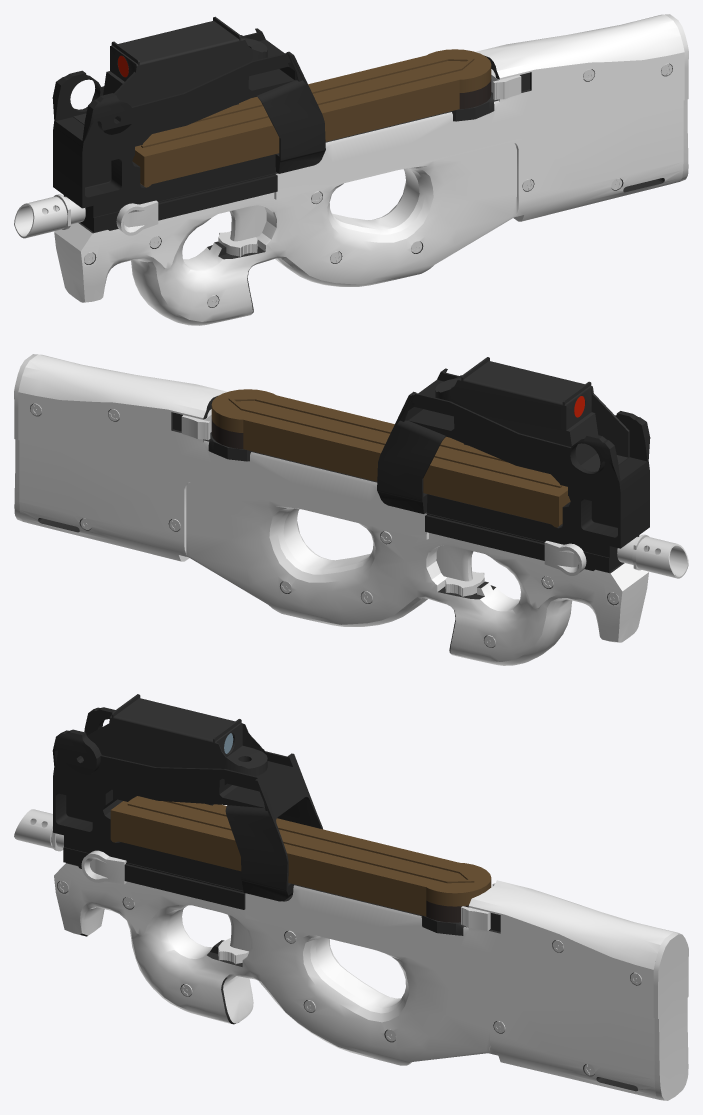
The picture shows the model from 3 angles, top to bottom: view 1: azimuth 30°, elevation 25°; view 2: azimuth 150°, elevation 25°; view 3: azimuth 330°, elevation 25°; orthographic projection.
Parts seen in each view (by area): view 1: 구성 요소#12_001, 구성 요소#2_001, Group_001, 구성 요소#1_001, 구성 요소#3_001, 구성 요소#9_001, 구성 요소#4_001, 구성 요소#17_001, 구성 요소#23_001, 구성 요소#5_001; view 2: 구성 요소#12_001, 구성 요소#2_001, Group_001, 구성 요소#1_001, 구성 요소#3_001, 구성 요소#9_002, 구성 요소#4_001, 구성 요소#17_001, 구성 요소#23_001, 구성 요소#5_001; view 3: 구성 요소#12_001, 구성 요소#2_001, Group_001, 구성 요소#1_001, 구성 요소#17_001, 구성 요소#3_001, 구성 요소#9_001, 구성 요소#23_001.
Boxes of the visible parts, bbox=[...] form: 구성 요소#12_001: bbox=[54, 14, 684, 325]; 구성 요소#2_001: bbox=[52, 28, 325, 232]; Group_001: bbox=[132, 49, 491, 187]; 구성 요소#1_001: bbox=[73, 16, 267, 124]; 구성 요소#3_001: bbox=[14, 194, 85, 238]; 구성 요소#9_001: bbox=[116, 200, 158, 235]; 구성 요소#4_001: bbox=[229, 205, 266, 241]; 구성 요소#17_001: bbox=[665, 14, 688, 181]; 구성 요소#23_001: bbox=[491, 69, 521, 100]; 구성 요소#5_001: bbox=[218, 231, 257, 256]; 구성 요소#12_001: bbox=[18, 354, 648, 665]; 구성 요소#2_001: bbox=[377, 368, 650, 572]; Group_001: bbox=[211, 389, 570, 527]; 구성 요소#1_001: bbox=[435, 357, 629, 471]; 구성 요소#3_001: bbox=[617, 534, 688, 578]; 구성 요소#9_002: bbox=[544, 541, 586, 575]; 구성 요소#4_001: bbox=[436, 545, 473, 581]; 구성 요소#17_001: bbox=[14, 354, 37, 521]; 구성 요소#23_001: bbox=[181, 409, 211, 440]; 구성 요소#5_001: bbox=[445, 571, 484, 596]; 구성 요소#12_001: bbox=[54, 863, 675, 1099]; 구성 요소#2_001: bbox=[52, 707, 322, 909]; Group_001: bbox=[110, 796, 491, 922]; 구성 요소#1_001: bbox=[87, 694, 267, 805]; 구성 요소#17_001: bbox=[653, 932, 688, 1100]; 구성 요소#3_001: bbox=[14, 809, 63, 851]; 구성 요소#9_001: bbox=[81, 850, 126, 884]; 구성 요소#23_001: bbox=[461, 883, 495, 930].
Size of the model in its own units: 1244427 by 524224 by 131156.
